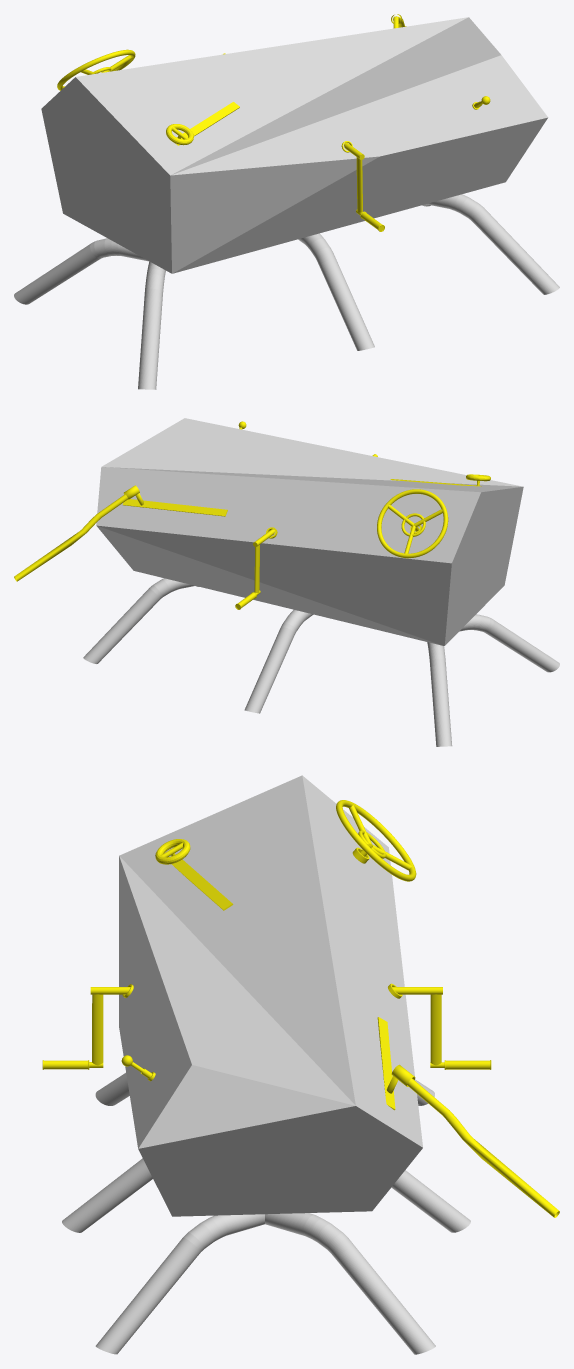
3 renders of one model, top to bottom at view 1: azimuth 30°, elevation 25°; view 2: azimuth 150°, elevation 25°; view 3: azimuth 270°, elevation 25°, orthographic. The views are drawn at different scales.
Visible parts, largest first — view 1: cuve.009, Cylinder.026, Cylinder.024, Cylinder.036, Cylinder.027, Inst4.018, Inst Mod.018; view 2: cuve.009, Inst4.018, Cylinder.025, Cylinder.041, Cylinder.035, Cylinder.027, Cylinder.036, Inst Mod.018; view 3: cuve.009, Cylinder.025, Cylinder.026, Inst Mod.018, Inst4.018, Cylinder.041, Cylinder.024, Cylinder.035, Cylinder.036.
Part boxes in pixels (x1,y1,x2,y2): cuve.009: [41, 17, 548, 273]; Cylinder.026: [426, 194, 559, 294]; Cylinder.024: [298, 233, 374, 350]; Cylinder.036: [138, 261, 165, 389]; Cylinder.027: [14, 238, 148, 304]; Inst4.018: [57, 49, 239, 145]; Inst Mod.018: [223, 53, 479, 231]; cuve.009: [96, 418, 523, 645]; Inst4.018: [377, 474, 490, 558]; Cylinder.025: [83, 578, 194, 663]; Cylinder.041: [14, 485, 227, 581]; Cylinder.035: [244, 610, 313, 713]; Cylinder.027: [427, 642, 452, 746]; Cylinder.036: [459, 614, 559, 672]; Inst Mod.018: [235, 454, 421, 609]; cuve.009: [119, 775, 422, 1216]; Cylinder.025: [265, 1213, 435, 1354]; Cylinder.026: [95, 1214, 264, 1354]; Inst Mod.018: [42, 847, 491, 1081]; Inst4.018: [155, 800, 416, 910]; Cylinder.041: [377, 1017, 559, 1217]; Cylinder.024: [62, 1158, 152, 1232]; Cylinder.035: [391, 1170, 470, 1232]; Cylinder.036: [95, 1073, 129, 1105].
Bounding box in the file's own units: 2.27 × 1.25 × 1.87.
